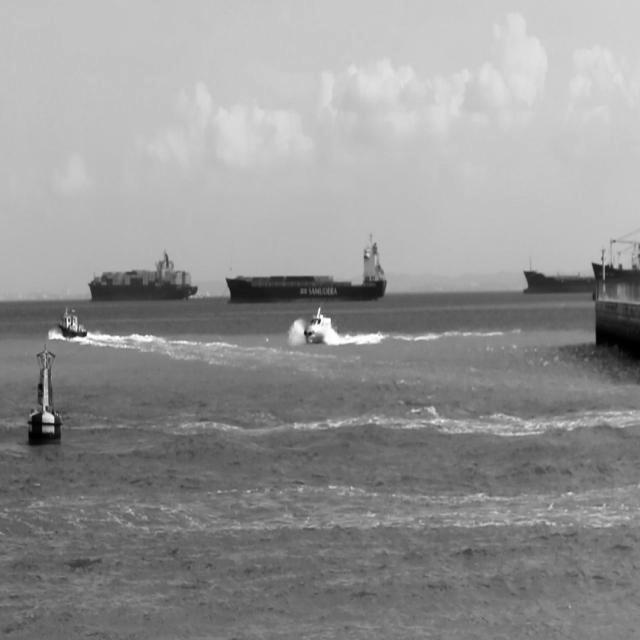buoy: (27, 345, 62, 442)
ship: (225, 230, 388, 304), (89, 246, 198, 302), (523, 254, 595, 294), (303, 304, 341, 346), (58, 305, 88, 340)
